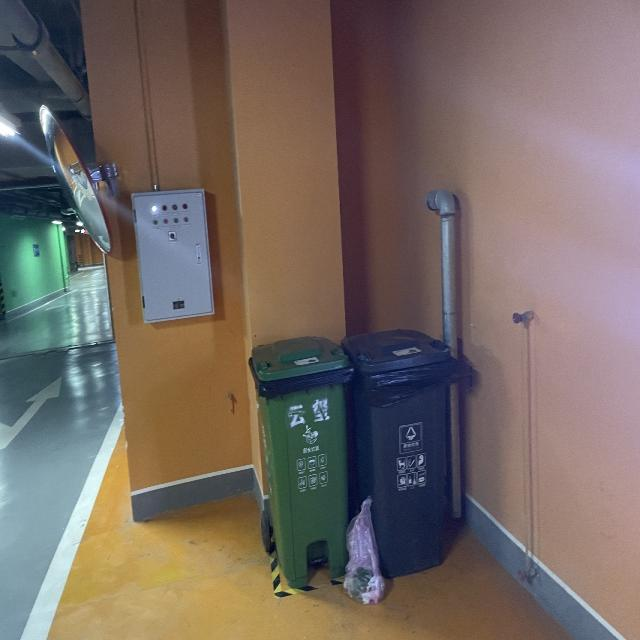garbage: (342, 495, 386, 605)
garbage_bin: (340, 328, 459, 579), (248, 335, 352, 589)
